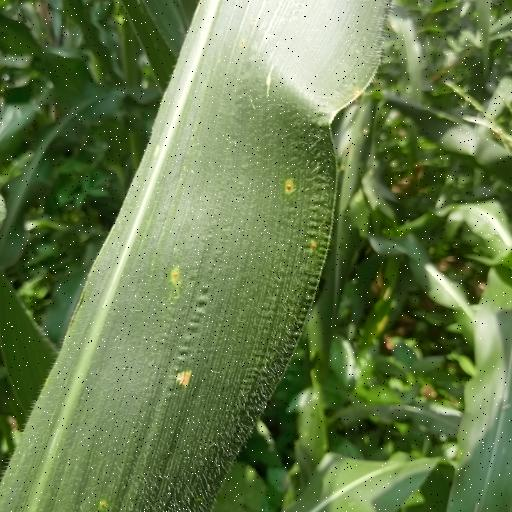Corn_Brown_Spots: (78, 0, 384, 465)
